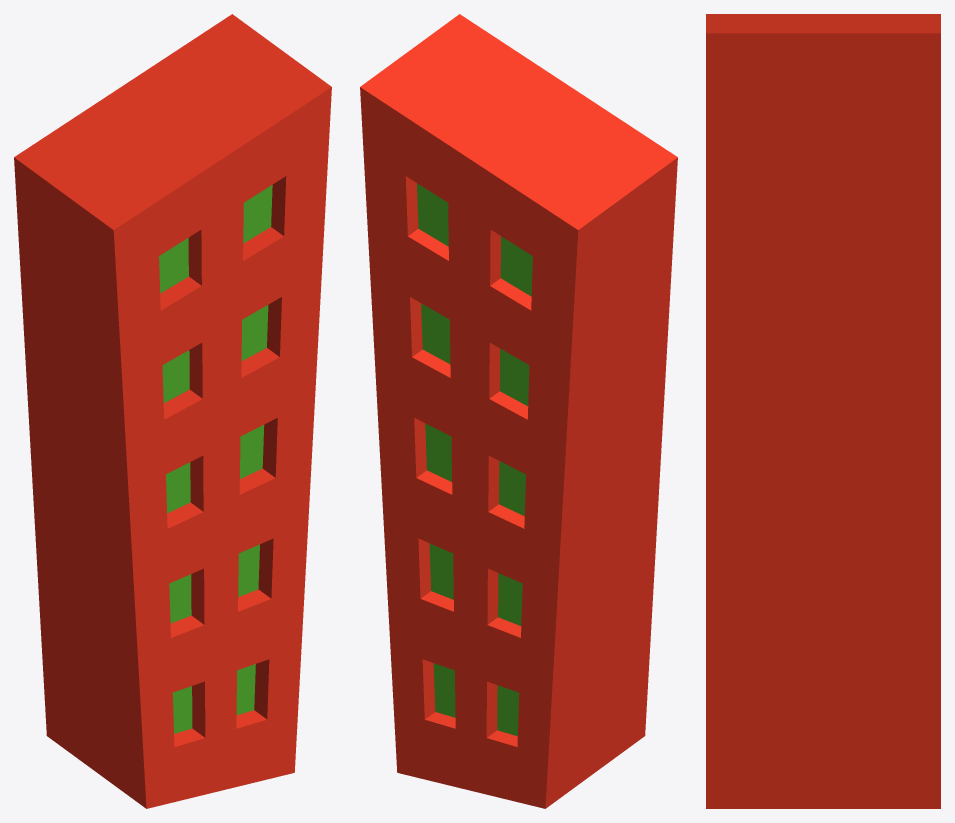
The model's file is Building2.fbx.
The picture shows the model from 3 angles, left to right: view 1: azimuth 30°, elevation 25°; view 2: azimuth 150°, elevation 25°; view 3: azimuth 270°, elevation 25°; orthographic projection. The views are drawn at different scales.
Visible parts, largest first — view 1: Cube; view 2: Cube; view 3: Cube.
Boxes of the visible parts, box(x1,y1,x2,y2) form: Cube: box(14, 14, 331, 808); Cube: box(360, 14, 677, 808); Cube: box(706, 14, 940, 808).
Size of the model in its own units: 357 by 1059 by 283.
